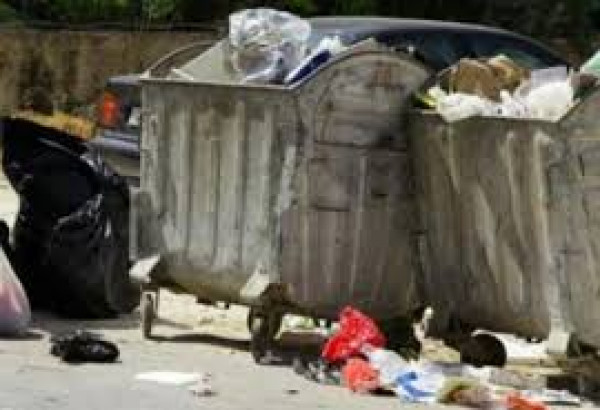trash_container: (126, 21, 429, 335)
